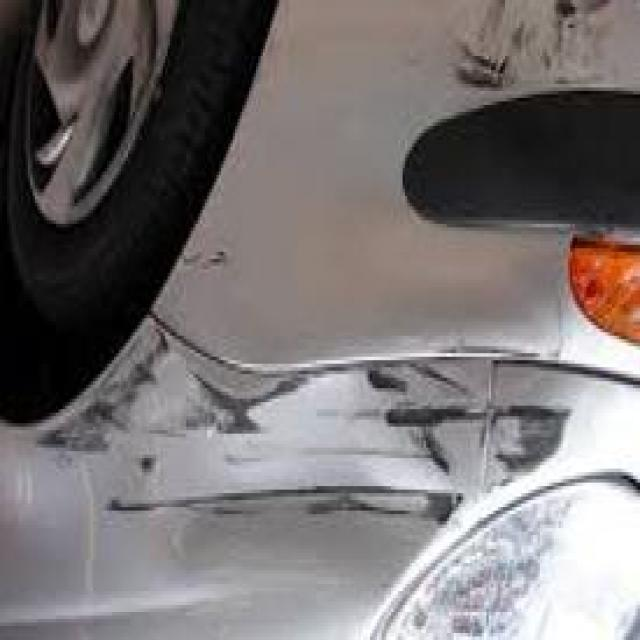scratch: (27, 304, 590, 546), (440, 2, 636, 114)
